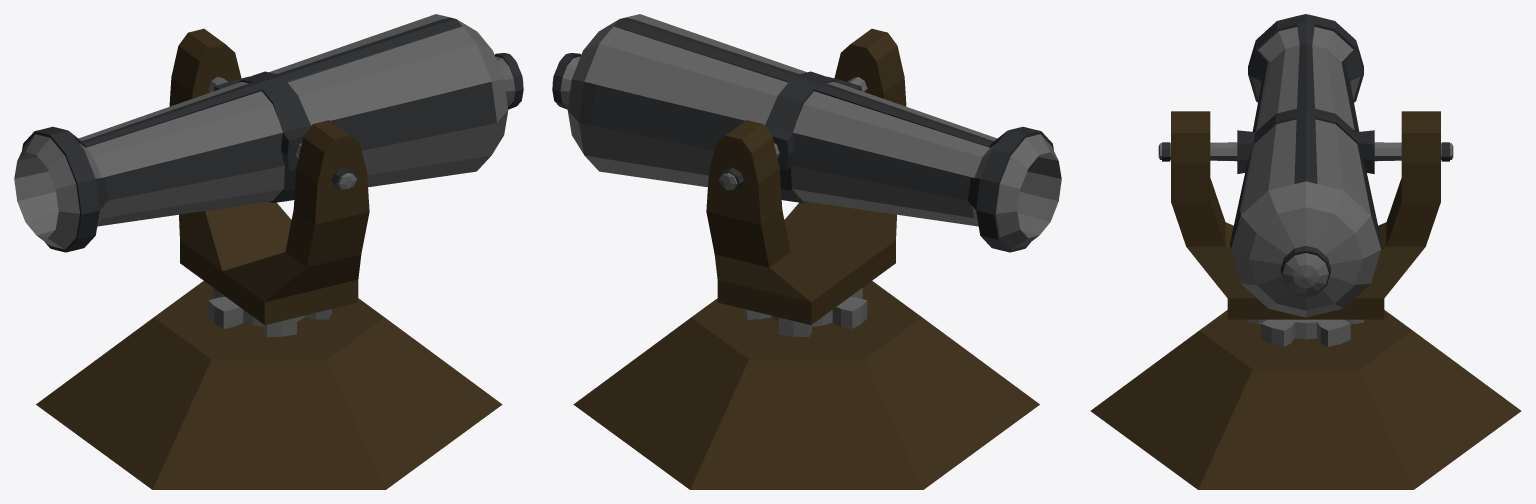
The model's file is cannone .fbx.
3 renders of one model, left to right at view 1: azimuth 30°, elevation 25°; view 2: azimuth 150°, elevation 25°; view 3: azimuth 270°, elevation 25°, orthographic. The views are drawn at different scales.
Visible parts, largest first — view 1: Cylinder.003, Cylinder.004, Cube.002, Gear.002; view 2: Cylinder.003, Cylinder.004, Cube.002, Gear.002; view 3: Cylinder.003, Cylinder.004, Cube.002, Gear.002.
Boxes of the visible parts, x1,y1,x2,y2 form: Cylinder.003: [36, 281, 502, 489]; Cylinder.004: [14, 14, 523, 252]; Cube.002: [169, 28, 369, 325]; Gear.002: [208, 288, 331, 337]; Cylinder.003: [573, 281, 1039, 489]; Cylinder.004: [552, 14, 1061, 252]; Cube.002: [706, 28, 906, 325]; Gear.002: [744, 288, 867, 337]; Cylinder.003: [1090, 310, 1521, 489]; Cylinder.004: [1158, 14, 1453, 317]; Cube.002: [1171, 111, 1440, 319]; Gear.002: [1247, 319, 1364, 346].
Bounding box in the file's own units: 179 × 120 × 150.
